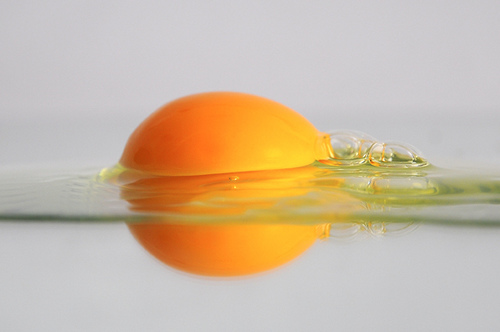egg: (3, 87, 499, 227)
